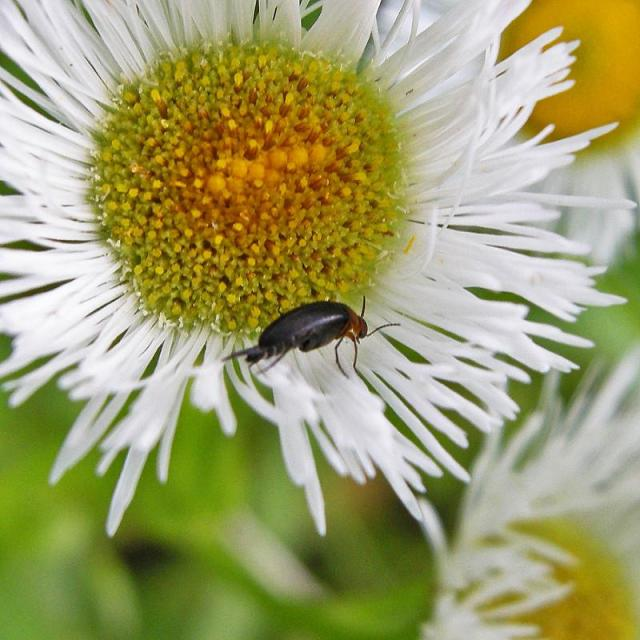BlisterBeetle-Adult-: (226, 283, 380, 387)
